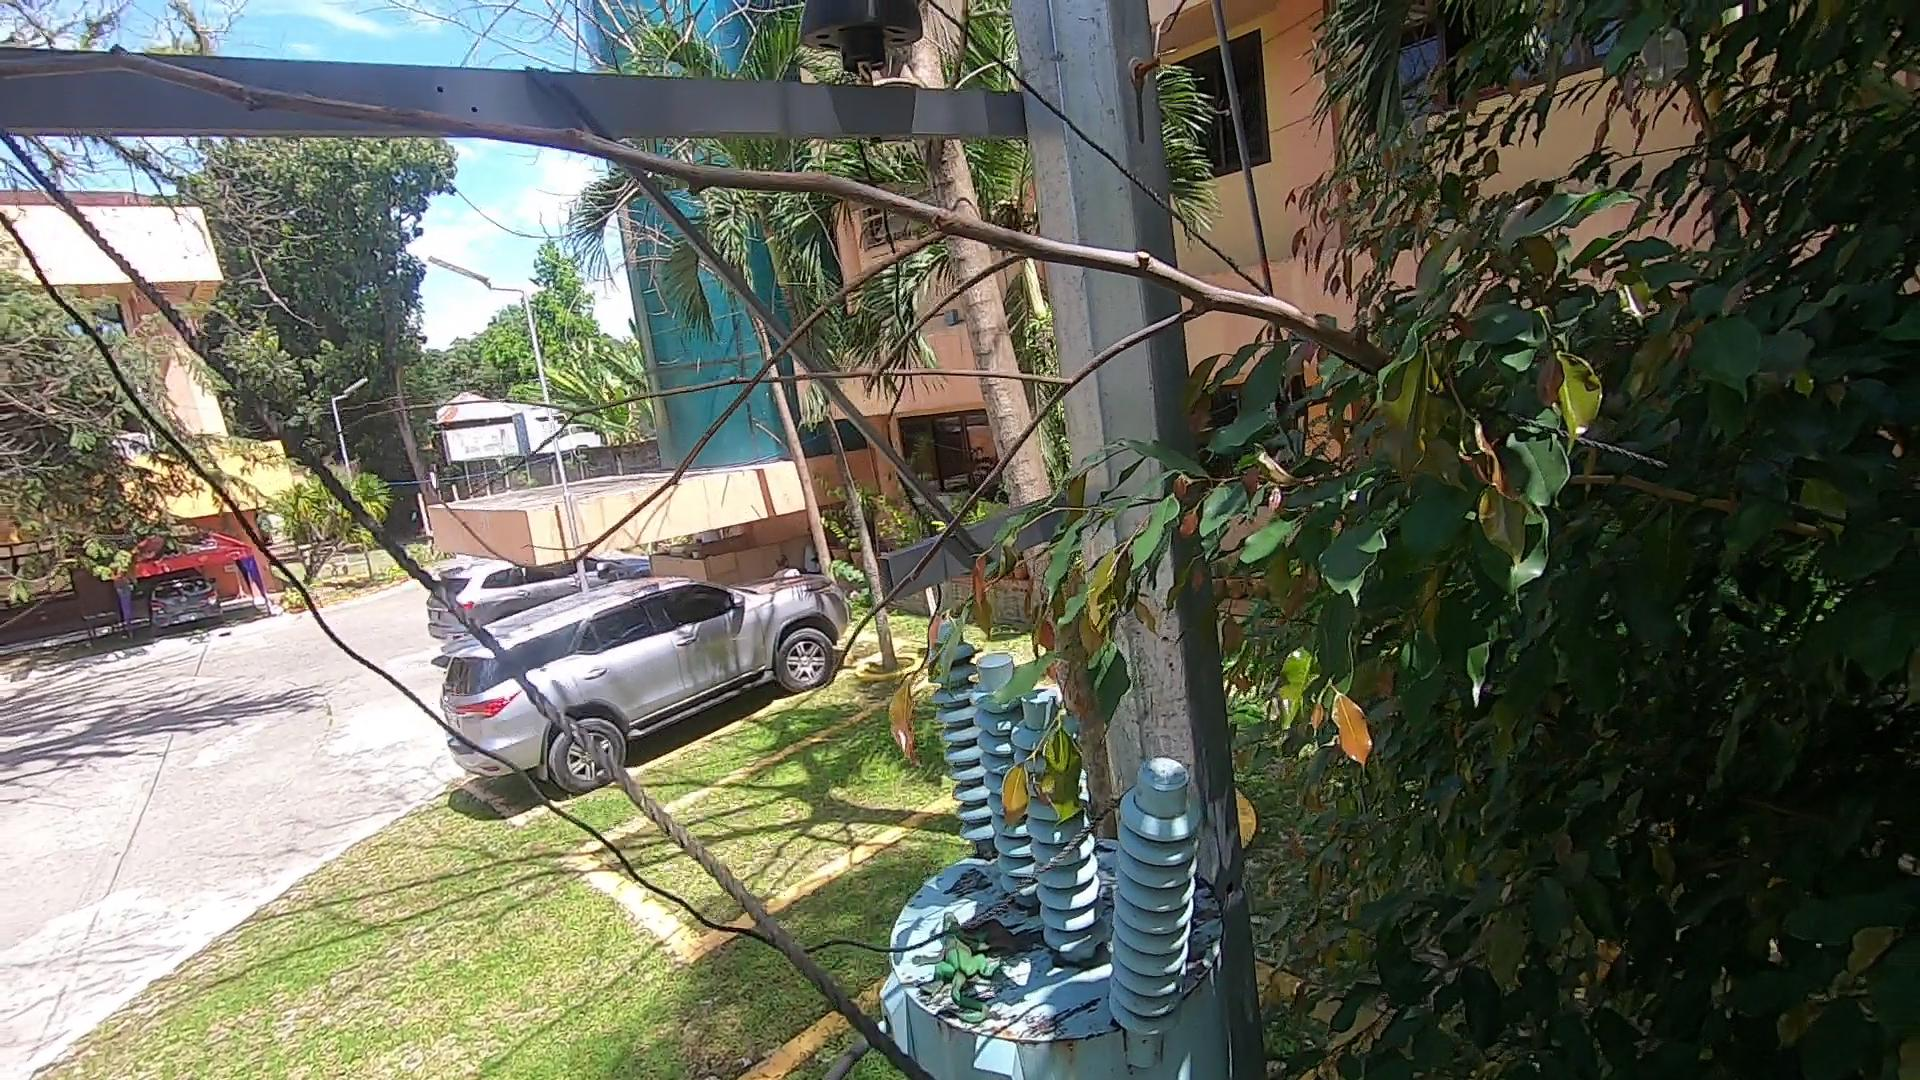leaf: (953, 894, 1029, 955)
tree branch: (1, 9, 1455, 713)
